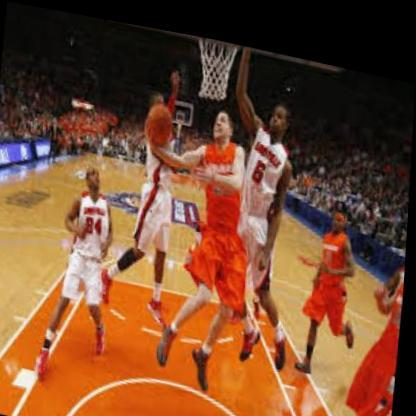basketball: (146, 95, 176, 144)
